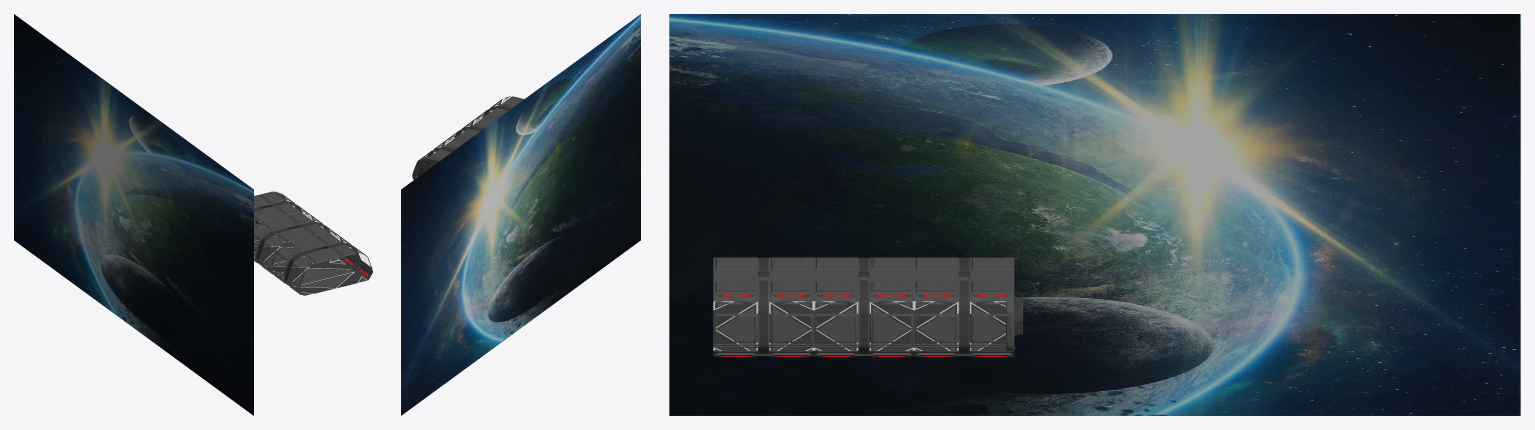
The model's file is Sci Fi Room.fbx.
3 views of the same model, side by side, from view 1: azimuth 30°, elevation 25°; view 2: azimuth 150°, elevation 25°; view 3: azimuth 270°, elevation 25° (orthographic). The views are drawn at different scales.
Visible parts, largest first — view 1: Space_Background, Room, Floor, Pillars; view 2: Space_Background, Room, Pillars; view 3: Space_Background, Room, Floor, Pillars, Red_Lights_2.
Part boxes in pixels (x1=…): Space_Background: x1=14, y1=14, x2=253, y2=415; Room: x1=254, y1=191, x2=372, y2=295; Floor: x1=254, y1=225, x2=367, y2=295; Pillars: x1=254, y1=201, x2=372, y2=289; Space_Background: x1=401, y1=14, x2=640, y2=415; Room: x1=412, y1=96, x2=524, y2=179; Pillars: x1=413, y1=105, x2=511, y2=176; Space_Background: x1=669, y1=14, x2=1520, y2=415; Room: x1=713, y1=256, x2=1014, y2=357; Floor: x1=713, y1=301, x2=1014, y2=350; Pillars: x1=713, y1=257, x2=1014, y2=356; Red_Lights_2: x1=716, y1=294, x2=1011, y2=356.
Bounding box in the file's own units: 10611 × 17456 × 33509.
Materials: 8 (1 with a texture image).
